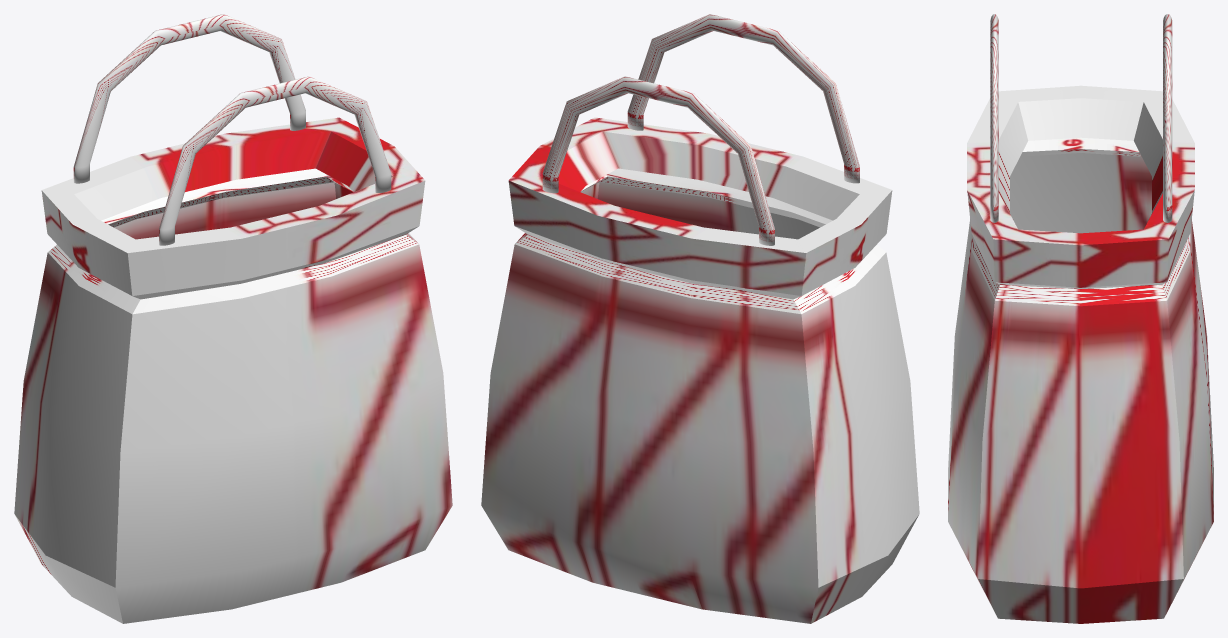
The model's file is shop.glb.
3 views of the same model, side by side, from view 1: azimuth 30°, elevation 25°; view 2: azimuth 150°, elevation 25°; view 3: azimuth 270°, elevation 25° (orthographic).
Parts seen in each view (by area): view 1: shop; view 2: shop; view 3: shop.
Boxes of the visible parts, <box> form: shop: <box>14,14,452,623</box>; shop: <box>481,14,919,623</box>; shop: <box>948,14,1213,623</box>.
Bounding box in the file's own units: 1.15 × 1.51 × 0.6909.
Materials: 1 (1 with a texture image).
